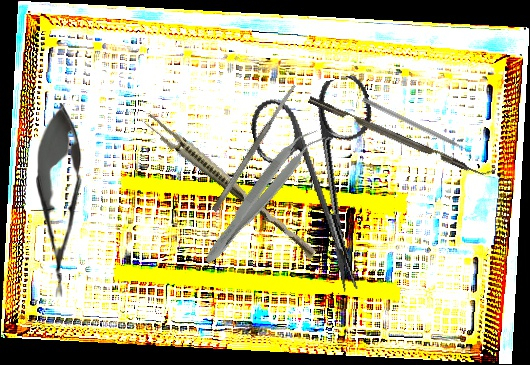Chopper: (307, 87, 497, 184), (358, 96, 478, 163)
Iris Scissors: (244, 72, 413, 305)
Micro Scissor: (36, 103, 83, 298)
Spatula Surgical: (210, 83, 299, 213)
Tissue Forceps: (139, 111, 323, 261), (198, 120, 327, 273)
